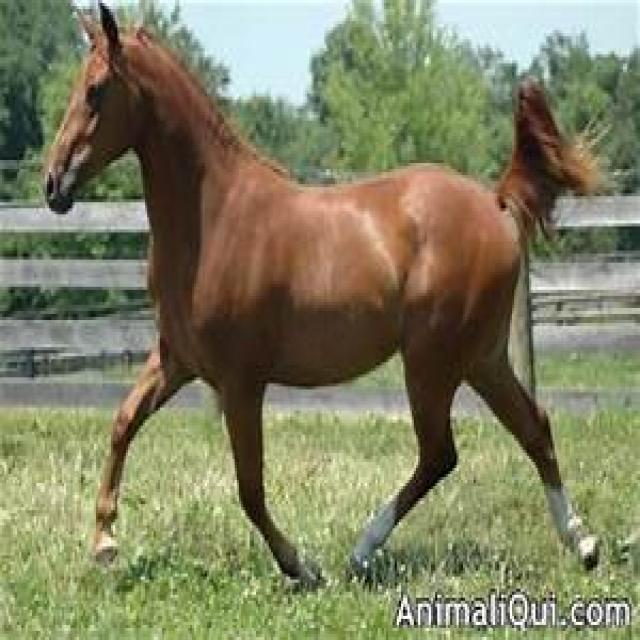animal: (41, 0, 612, 592)
